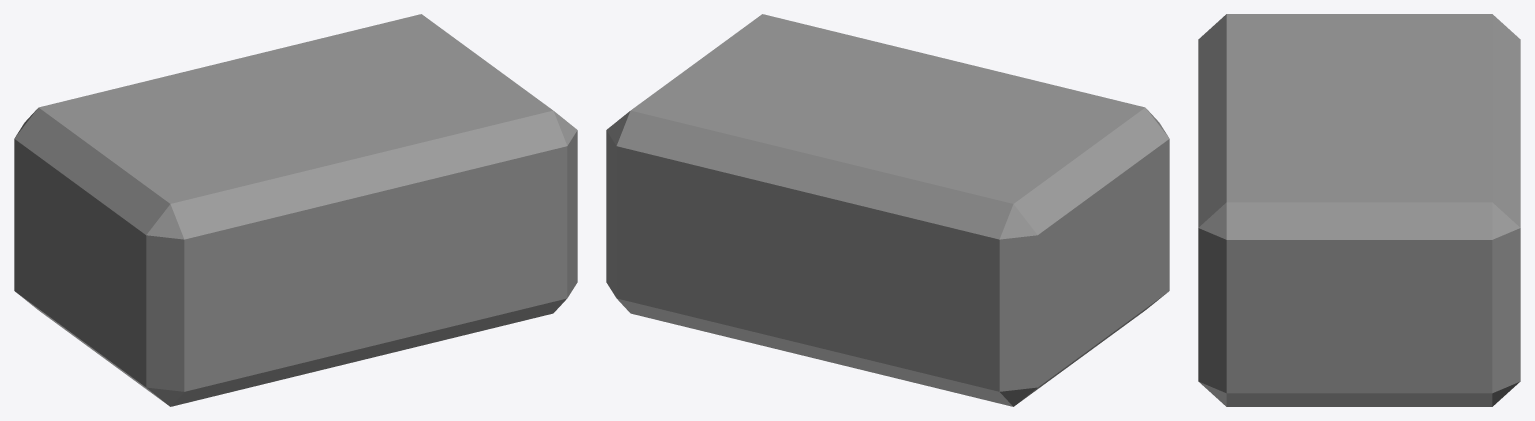
Rendered from Brick_04.fbx.
3 views of the same model, side by side, from view 1: azimuth 30°, elevation 25°; view 2: azimuth 150°, elevation 25°; view 3: azimuth 270°, elevation 25° (orthographic).
Parts seen in each view (by area): view 1: Brick_04; view 2: Brick_04; view 3: Brick_04.
Part boxes in pixels (bbox=[...]): Brick_04: bbox=[14, 14, 577, 406]; Brick_04: bbox=[606, 14, 1169, 406]; Brick_04: bbox=[1198, 14, 1520, 406].
Size of the model in its own units: 138 by 61.93 by 88.42.
